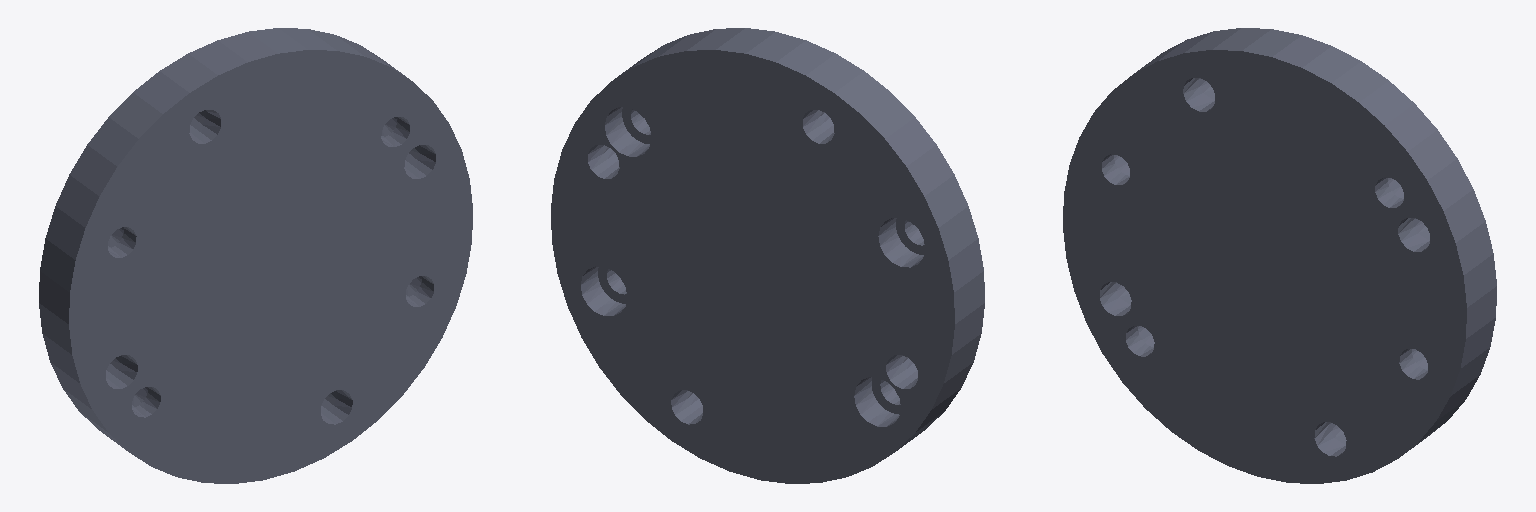
File: galbot_to_robotiq_adapter.obj
The picture shows the model from 3 angles: view 1: azimuth 30°, elevation 25°; view 2: azimuth 150°, elevation 25°; view 3: azimuth 330°, elevation 25°; orthographic projection.
Parts seen in each view (by area): view 1: 1.002; view 2: 1.002; view 3: 1.002.
Boxes of the visible parts, x1,y1,x2,y2 form: 1.002: [39, 28, 472, 483]; 1.002: [551, 28, 984, 483]; 1.002: [1063, 28, 1496, 483].
Bounding box in the file's own units: 0.062 × 0.062 × 0.008.